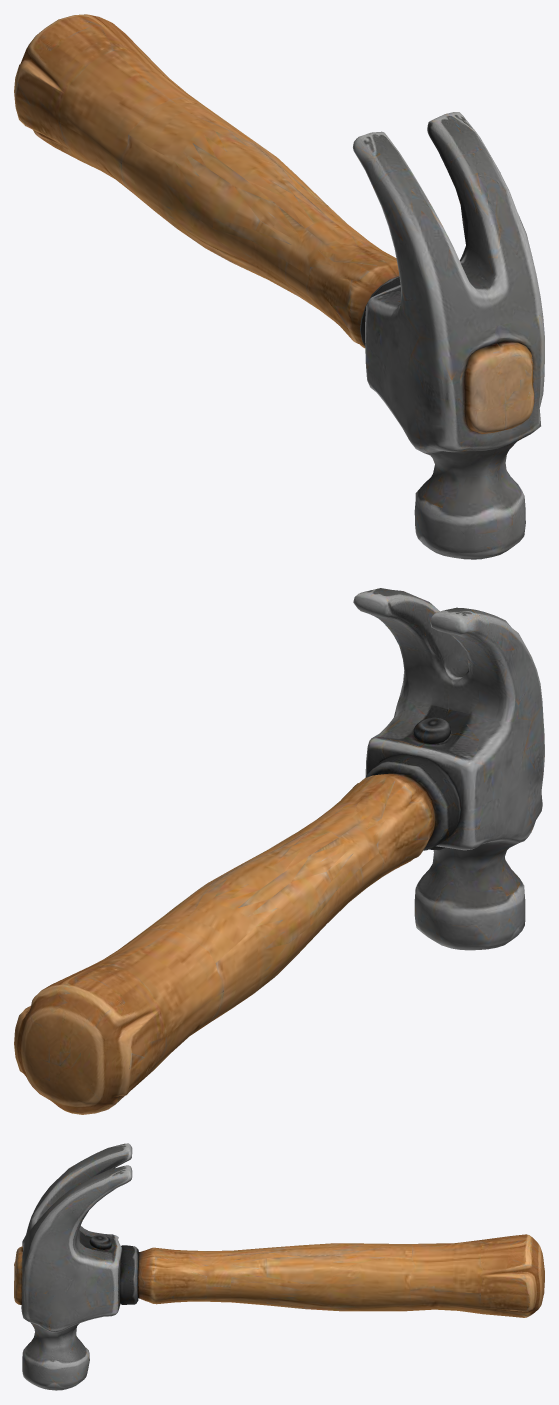
File: hammer.glb
The picture shows the model from 3 angles, top to bottom: view 1: azimuth 30°, elevation 25°; view 2: azimuth 150°, elevation 25°; view 3: azimuth 270°, elevation 25°; orthographic projection. The views are drawn at different scales.
Visible parts, largest first — view 1: w_hammer; view 2: w_hammer; view 3: w_hammer.
Boxes of the visible parts, x1=… form: w_hammer: x1=14, y1=14, x2=544, y2=559; w_hammer: x1=14, y1=588, x2=544, y2=1114; w_hammer: x1=14, y1=1143, x2=544, y2=1390.
Size of the model in its own units: 0.0628 by 0.1952 by 0.42.
Materials: 1 (1 with a texture image).
